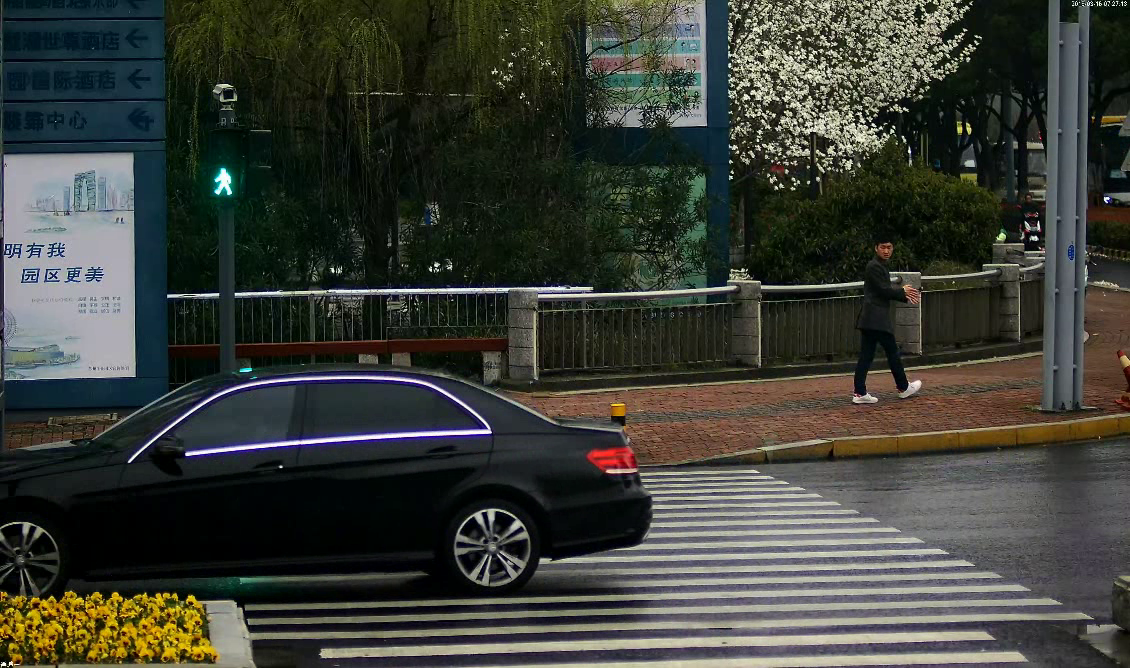person: (848, 234, 928, 412)
